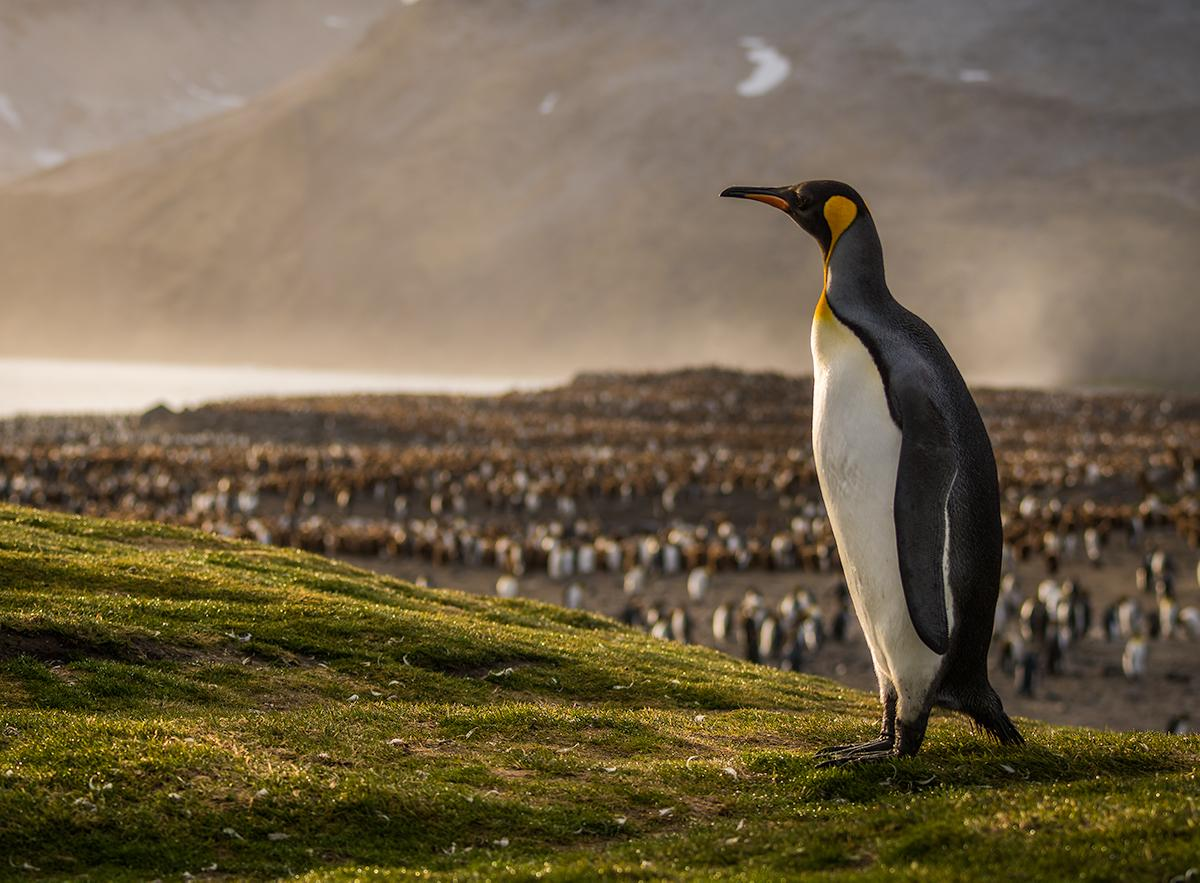king: (701, 140, 1081, 835)
